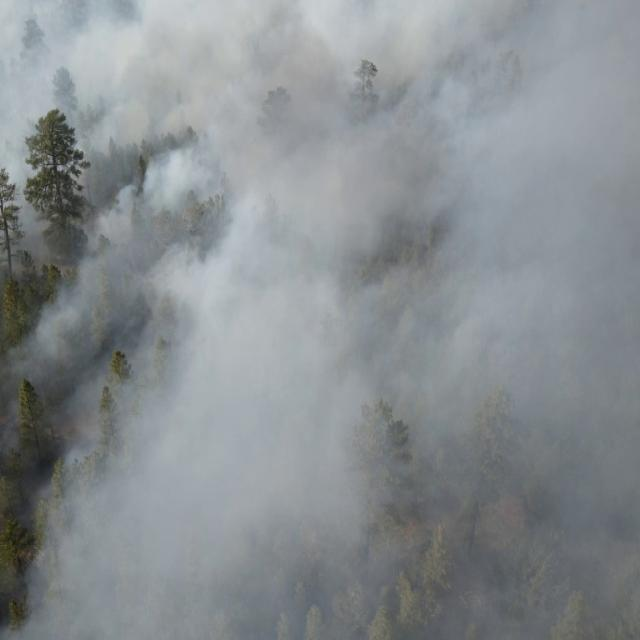smoke: (85, 106, 640, 640), (0, 1, 640, 107), (0, 237, 84, 640), (0, 106, 51, 238)
